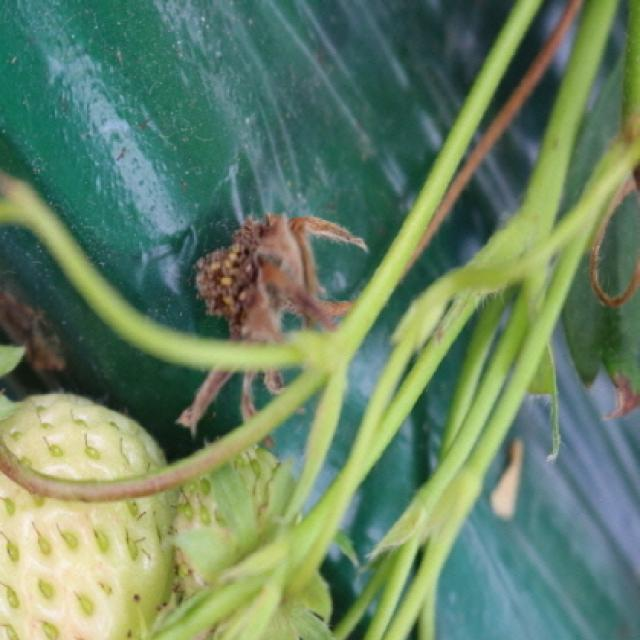Gray Mold: (179, 210, 368, 437)
